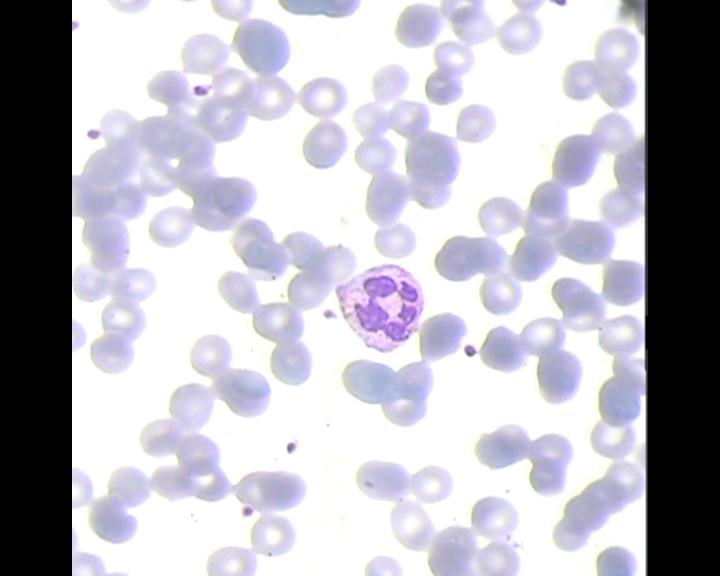neut: (331, 264, 427, 356)
